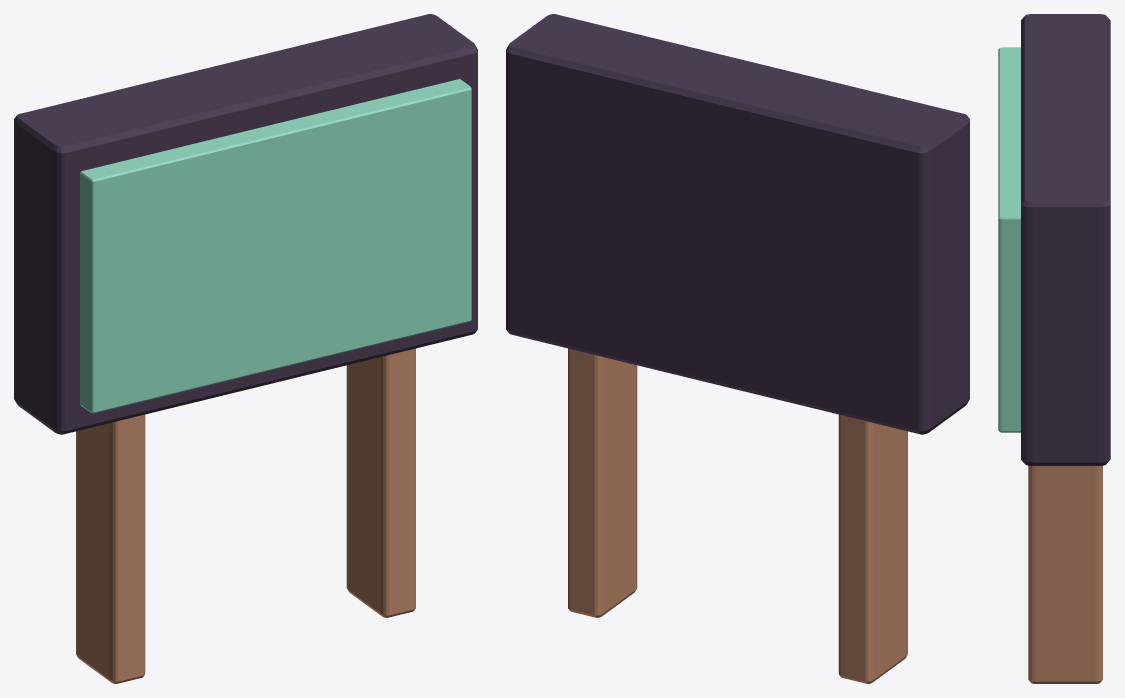
The model's file is ownership_sign.glb.
3 views of the same model, side by side, from view 1: azimuth 30°, elevation 25°; view 2: azimuth 150°, elevation 25°; view 3: azimuth 270°, elevation 25° (orthographic). The views are drawn at different scales.
Visible parts, largest first — view 1: panel, frame, model; view 2: frame, model; view 3: frame, model, panel.
Part boxes in pixels (x1,y1,x2,y2): panel: (80, 79, 471, 413); frame: (14, 14, 477, 434); model: (76, 348, 415, 683); frame: (506, 14, 969, 434); model: (568, 348, 907, 683); frame: (1021, 14, 1110, 465); model: (1028, 465, 1102, 683); panel: (998, 47, 1020, 432).
Size of the model in its own units: 0.6 by 0.75 by 0.15.
